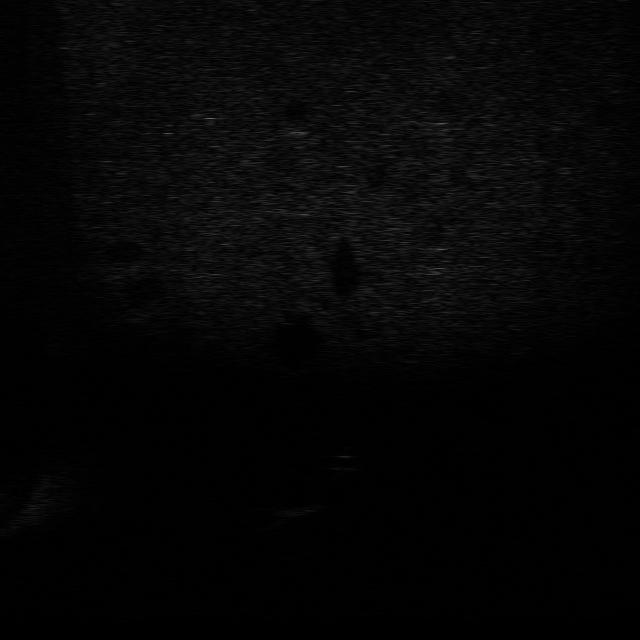ball: (316, 449, 365, 477)
square cage: (255, 492, 326, 523)
